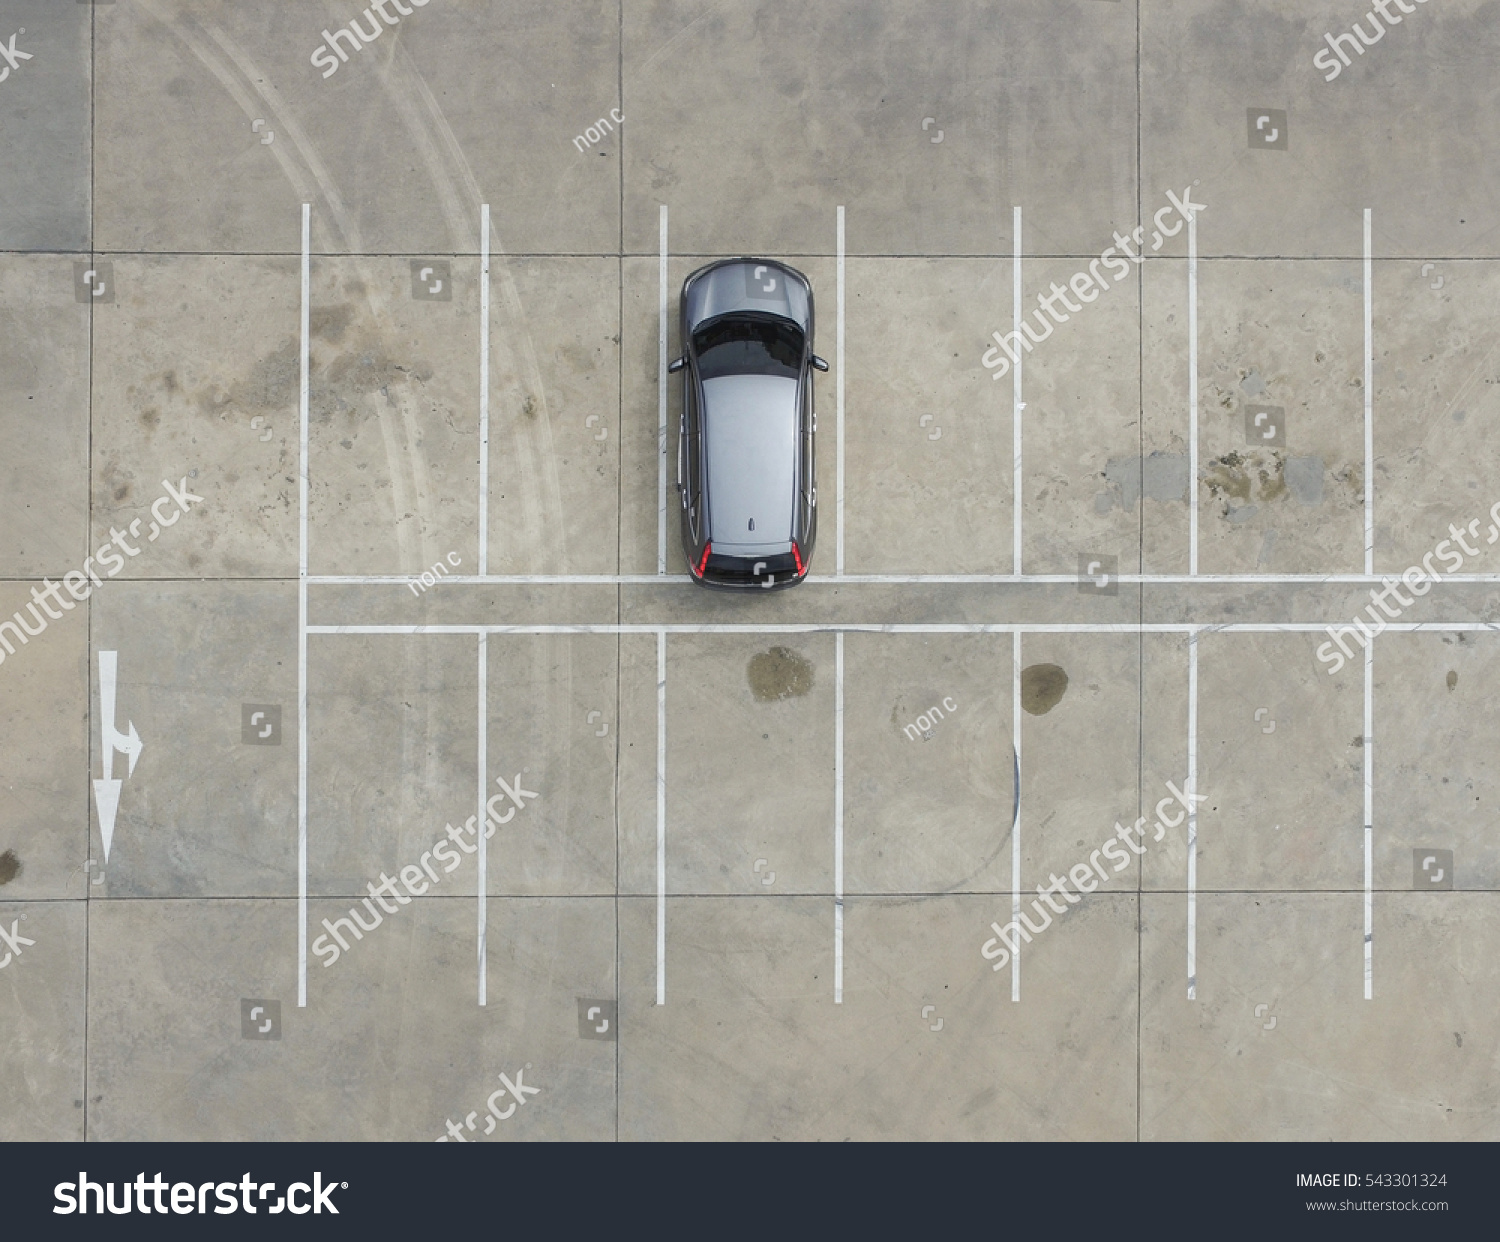Car: (674, 245, 824, 599)
LaneMark: (293, 201, 315, 1012), (300, 620, 1500, 632), (807, 569, 1494, 585), (470, 197, 495, 577), (1005, 620, 1027, 1002), (1007, 197, 1027, 585), (650, 623, 670, 1007), (652, 197, 672, 571), (1181, 625, 1200, 1008), (831, 201, 848, 577), (1360, 623, 1375, 1008), (476, 627, 491, 1007), (1185, 197, 1199, 582), (1360, 206, 1374, 582), (833, 625, 846, 1004), (304, 573, 667, 584)
